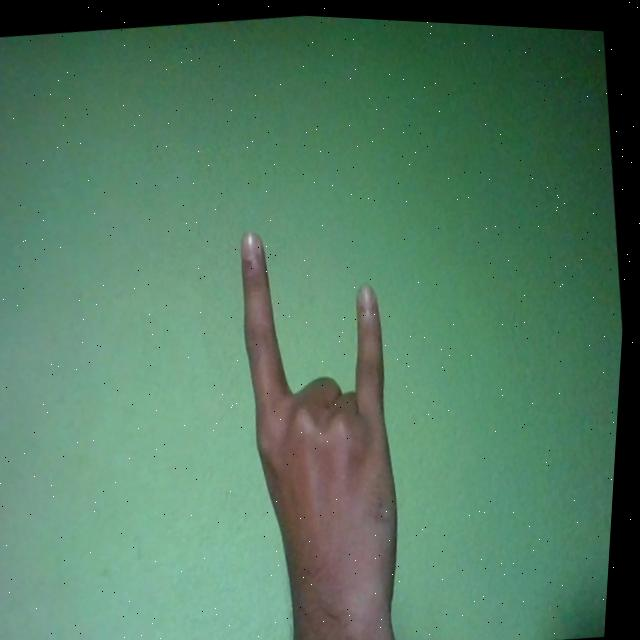Rock On: (218, 207, 432, 640)
